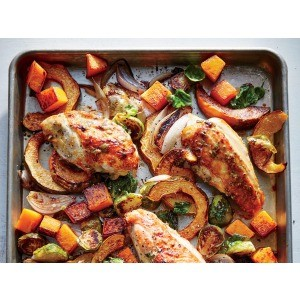chicken breast_brain food: (177, 114, 262, 217), (37, 103, 137, 174)
